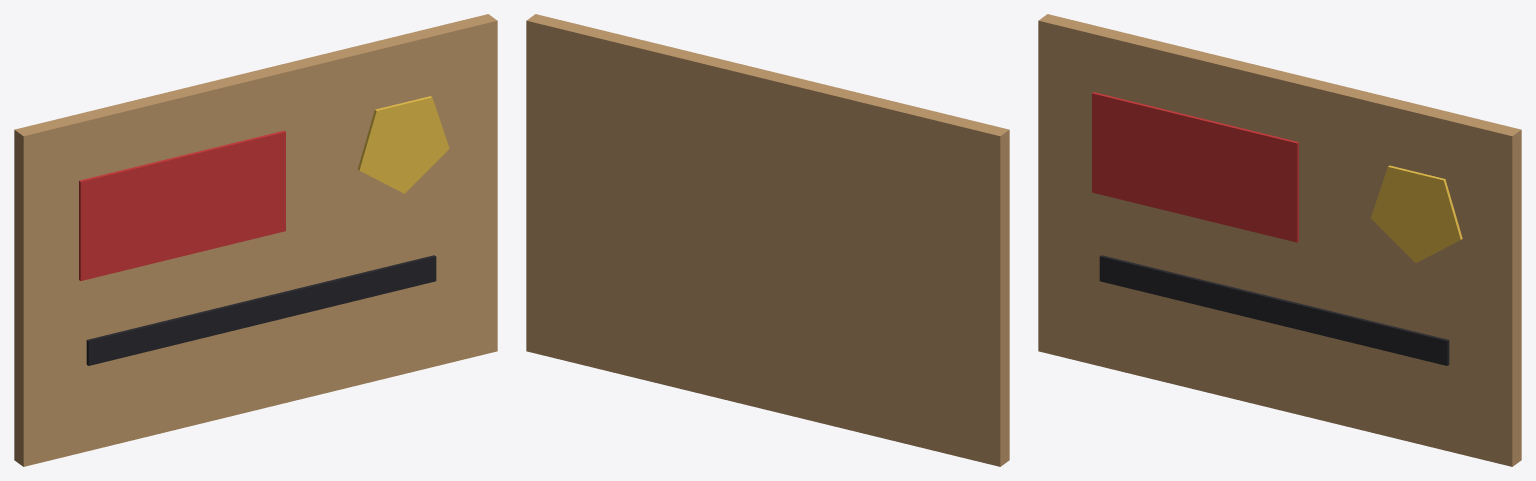
File: garage_zero_km_sign.glb
3 views of the same model, side by side, from view 1: azimuth 30°, elevation 25°; view 2: azimuth 150°, elevation 25°; view 3: azimuth 330°, elevation 25° (orthographic).
Visible parts, largest first — view 1: board_cardboard, text_sign_red, text_sheet_ink, star_sheet_star; view 2: board_cardboard; view 3: board_cardboard, text_sign_red, text_sheet_ink, star_sheet_star.
Part boxes in pixels (x1,y1,x2,y2): board_cardboard: (14, 14, 497, 466); text_sign_red: (79, 130, 285, 280); text_sheet_ink: (86, 255, 436, 365); star_sheet_star: (358, 96, 449, 193); board_cardboard: (526, 14, 1009, 466); board_cardboard: (1038, 14, 1521, 466); text_sign_red: (1092, 92, 1298, 242); text_sheet_ink: (1099, 255, 1449, 365); star_sheet_star: (1371, 165, 1462, 262).
Bounding box in the file's own units: 0.6 × 0.4 × 0.024.
